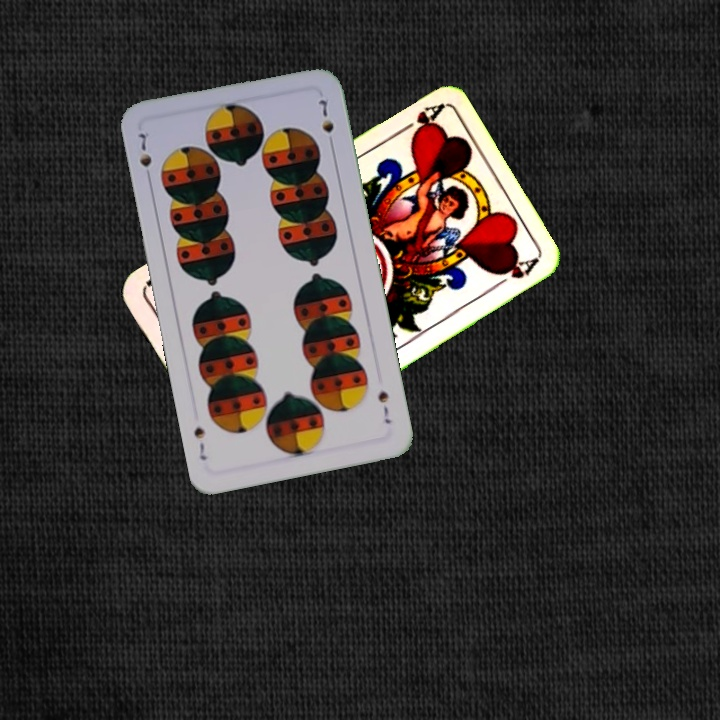HA: (390, 100, 445, 142)
S7: (134, 128, 155, 185), (374, 386, 394, 427)
